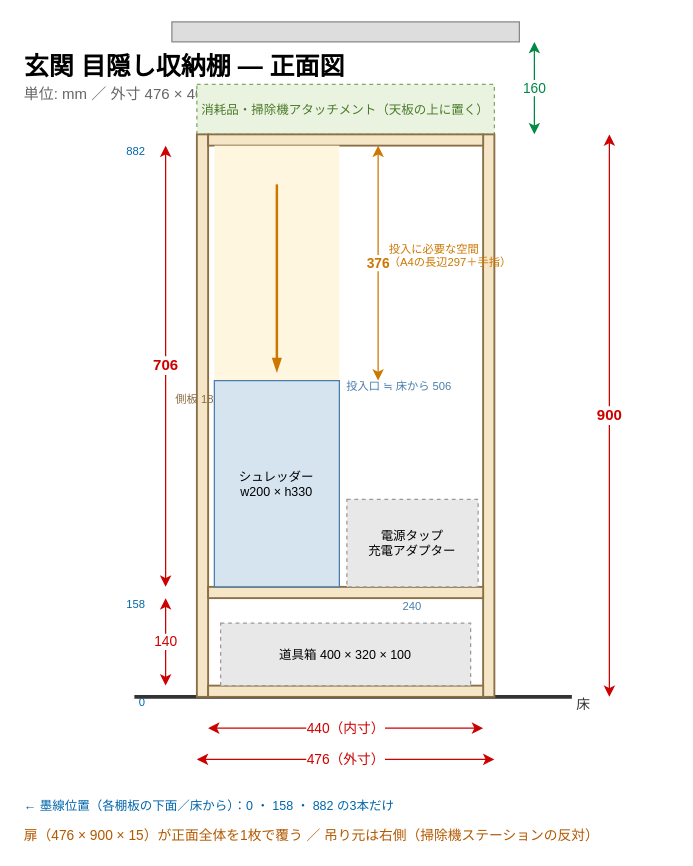
The diagram is 693 pixels wide and 866 high, and some of its shapes have lost their labels. The shapes that lost their labels are listed below. From the top down, each one's box as (x1, y1, x2, y2) in pixels, then its label:
(171, 21, 519, 42): 既存 飾り棚
(214, 145, 339, 380): 紙を上から投入
